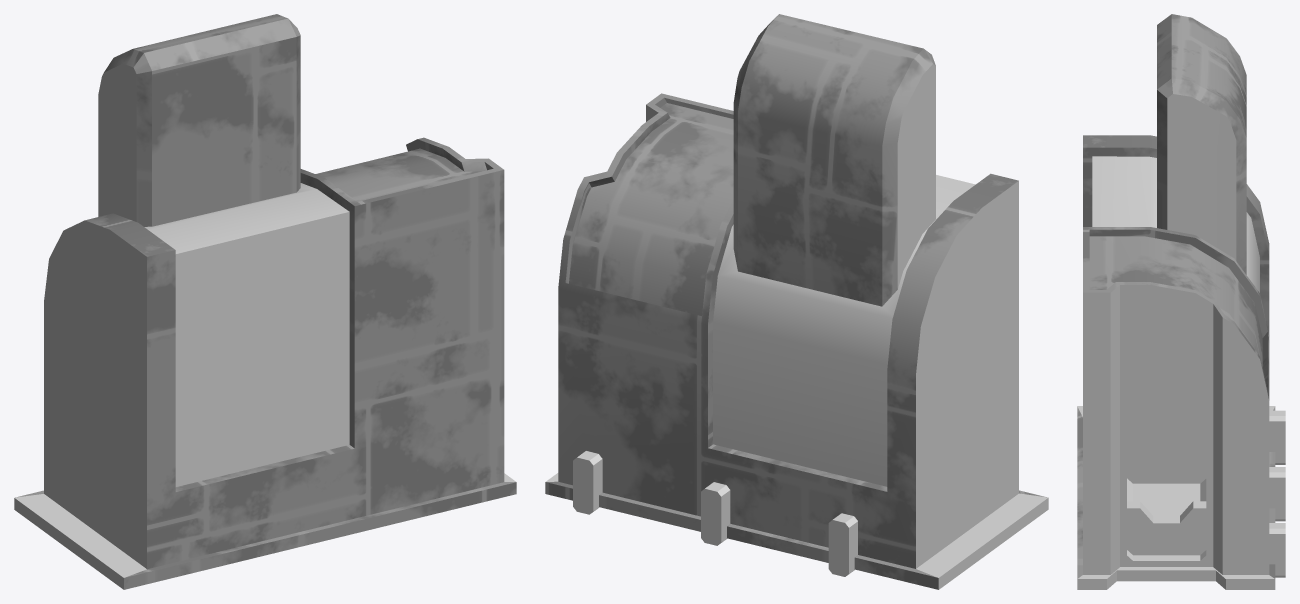
Rendered from Furnace.glb.
3 renders of one model, left to right at view 1: azimuth 30°, elevation 25°; view 2: azimuth 150°, elevation 25°; view 3: azimuth 270°, elevation 25°, orthographic. The views are drawn at different scales.
Parts seen in each view (by area): view 1: Cube; view 2: Cube; view 3: Cube.
Part boxes in pixels (left/top/right/bottom): Cube: left=14, top=14, right=516, bottom=589; Cube: left=545, top=14, right=1048, bottom=589; Cube: left=1077, top=14, right=1285, bottom=589.
Bounding box in the file's own units: 2.2 × 2.6 × 1.12.
2 materials, 1 textured.
